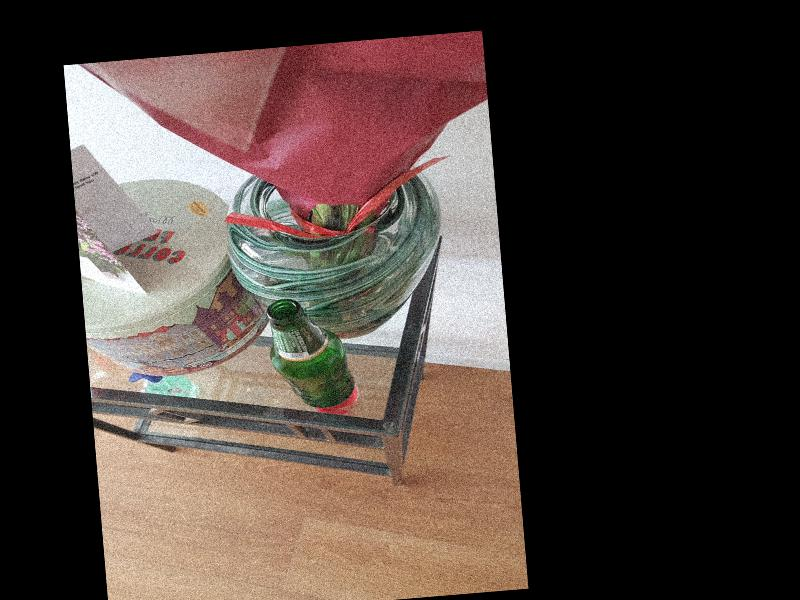Beer: (265, 294, 357, 411)
